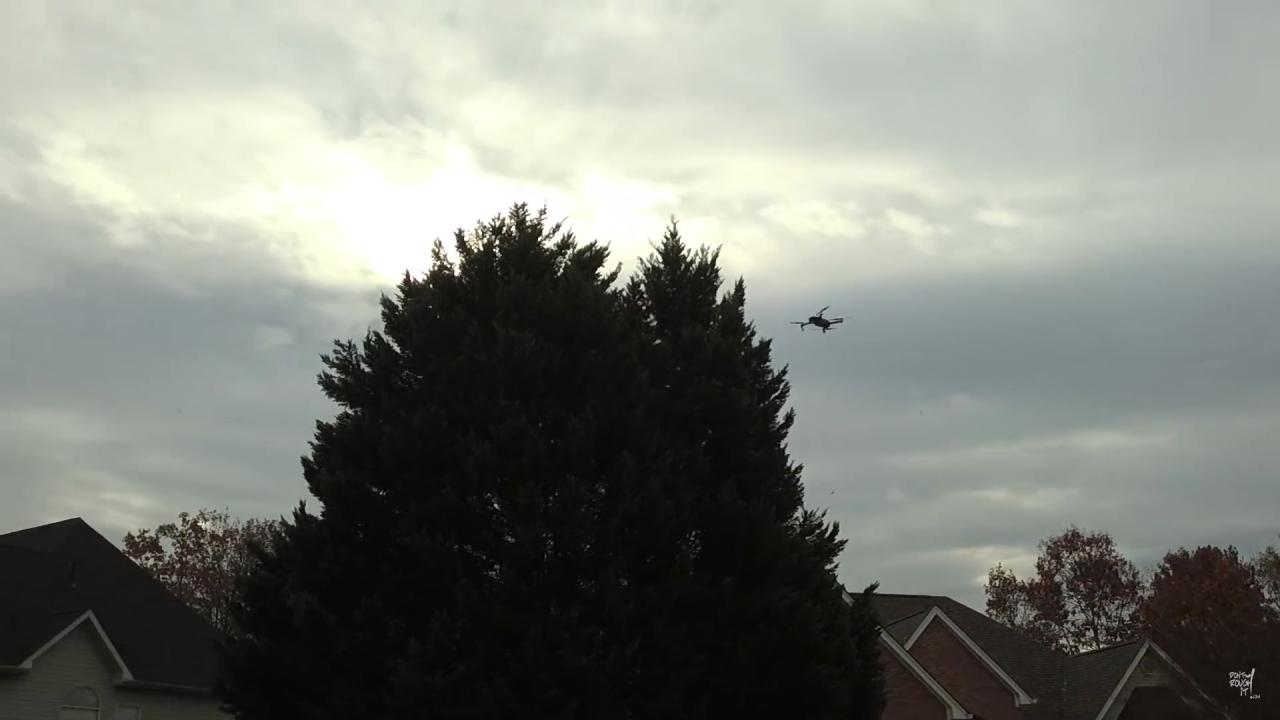Drone: (781, 294, 856, 349)
